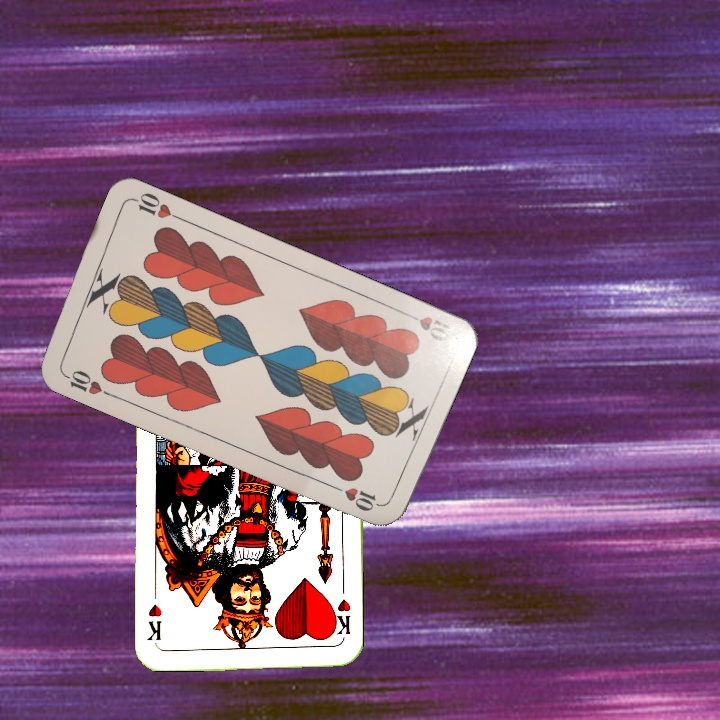H10: (399, 308, 457, 344), (57, 366, 113, 399)
HK: (328, 595, 354, 637)
